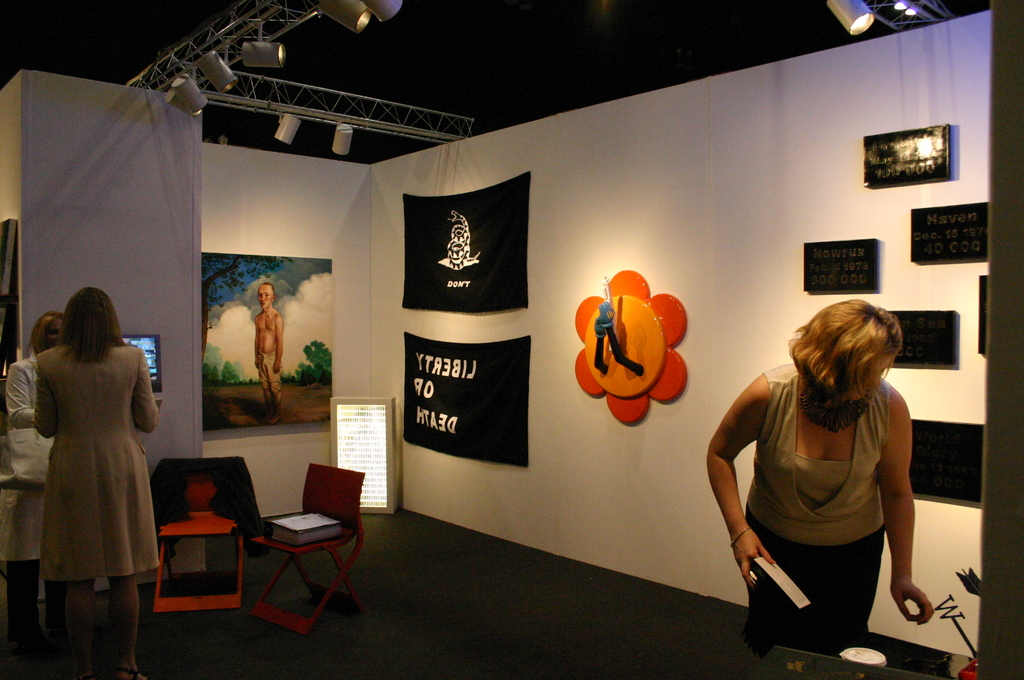Footwear: (106, 665, 150, 679)
